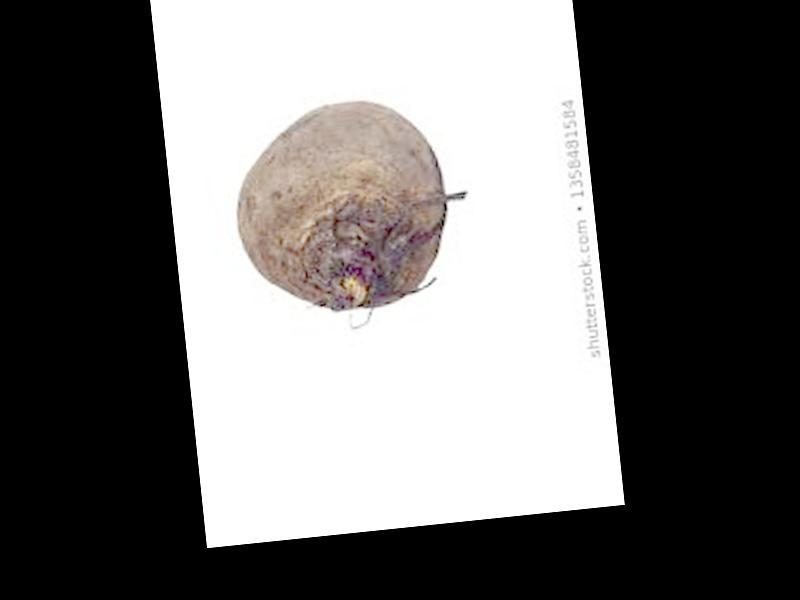Beet: (226, 90, 454, 318)
